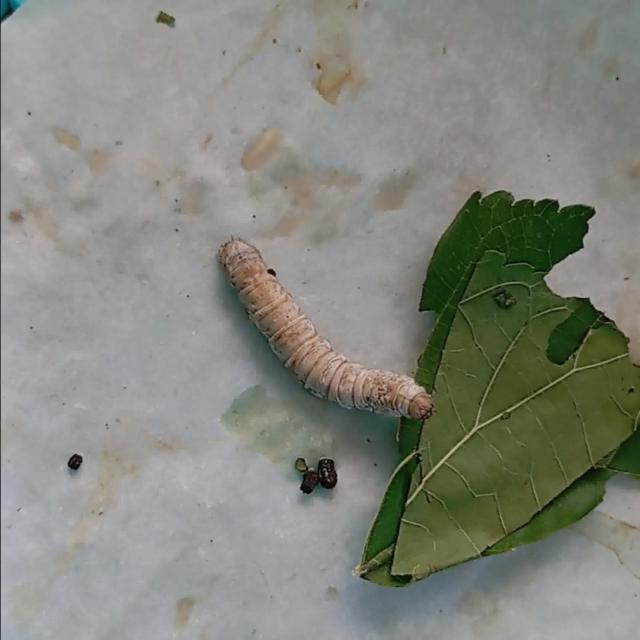Grasserie: (205, 209, 475, 445)
